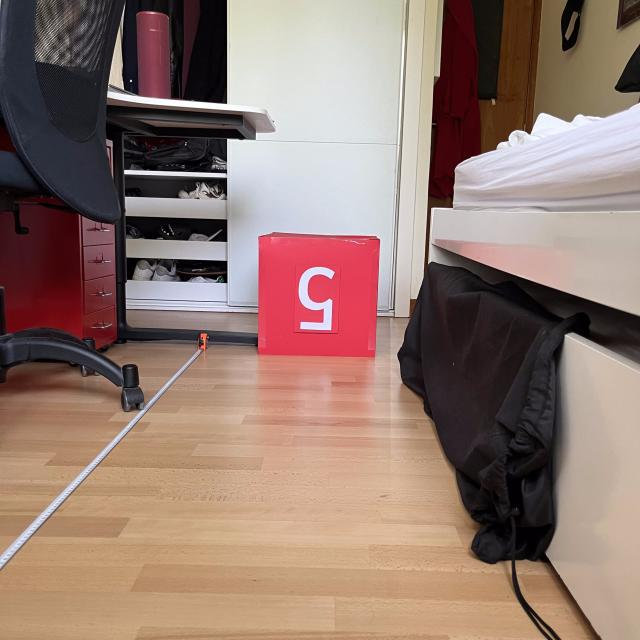box: (254, 228, 382, 360)
